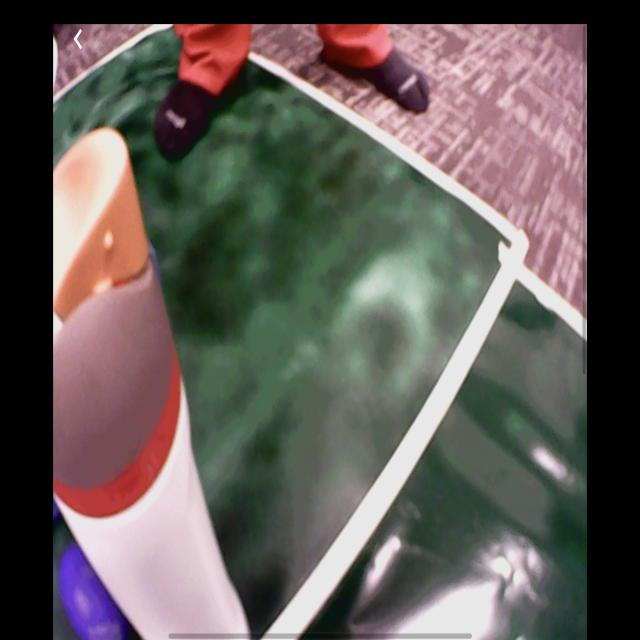ball: (59, 546, 132, 640)
